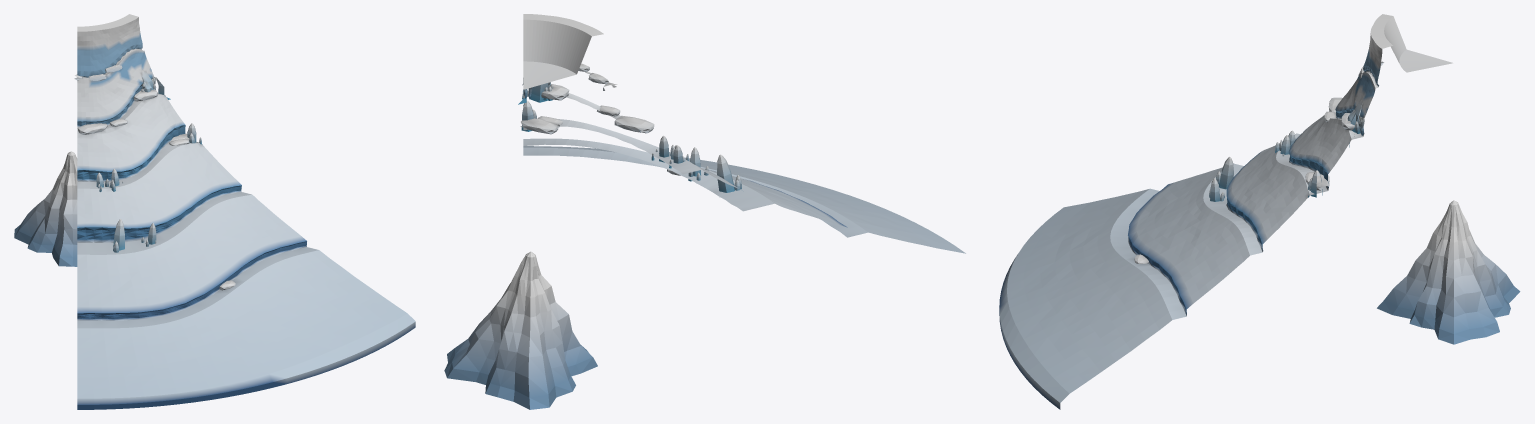
File: glacier-s5-BStDWFpr.glb
3 views of the same model, side by side, from view 1: azimuth 30°, elevation 25°; view 2: azimuth 150°, elevation 25°; view 3: azimuth 270°, elevation 25° (orthographic). The views are drawn at different scales.
Visible parts, largest first — view 1: sc_landmark_4, sc_peak_0; view 2: sc_landmark_4, sc_peak_0; view 3: sc_landmark_4, sc_peak_0.
Boxes of the visible parts, left/top/right/bottom form: sc_landmark_4: left=74, top=14, right=415, bottom=409; sc_peak_0: left=14, top=151, right=77, bottom=266; sc_landmark_4: left=518, top=14, right=965, bottom=253; sc_peak_0: left=444, top=251, right=597, bottom=409; sc_landmark_4: left=999, top=14, right=1452, bottom=409; sc_peak_0: left=1377, top=200, right=1520, bottom=344.
Size of the model in its own units: 416 by 286 by 477.
